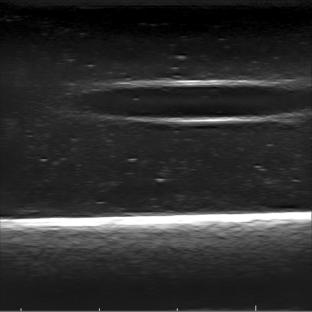vessel: (84, 77, 311, 125)
